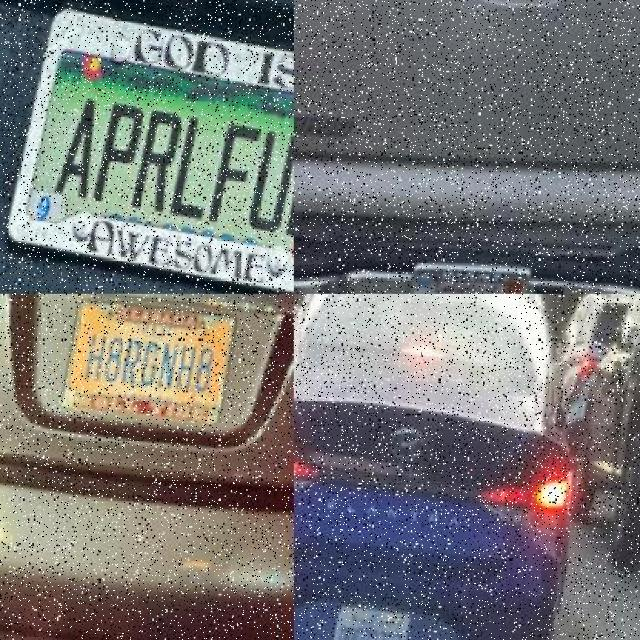licenseplate: (1, 9, 294, 294), (60, 301, 238, 427), (409, 263, 533, 294), (334, 607, 412, 640)
